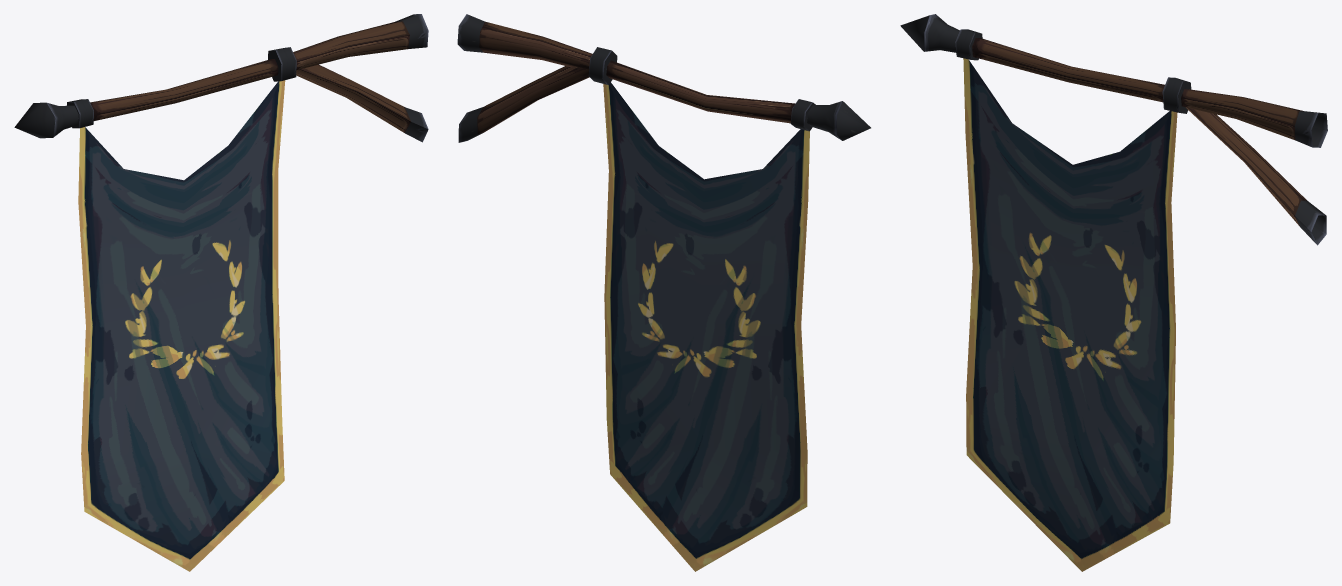
File: SM_PROP_flag_dungeon_06.fbx
3 views of the same model, side by side, from view 1: azimuth 30°, elevation 25°; view 2: azimuth 150°, elevation 25°; view 3: azimuth 330°, elevation 25° (orthographic). The views are drawn at different scales.
Parts seen in each view (by area): view 1: SM_PROP_flag_dungeon_06; view 2: SM_PROP_flag_dungeon_06; view 3: SM_PROP_flag_dungeon_06.
Boxes of the visible parts, x1=… form: SM_PROP_flag_dungeon_06: x1=14, y1=14, x2=428, y2=571; SM_PROP_flag_dungeon_06: x1=457, y1=14, x2=870, y2=571; SM_PROP_flag_dungeon_06: x1=900, y1=14, x2=1327, y2=571.
Size of the model in its own units: 187 by 223 by 14.51.
